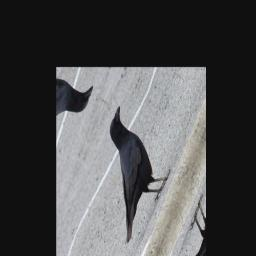Crow: (77, 104, 179, 252)
